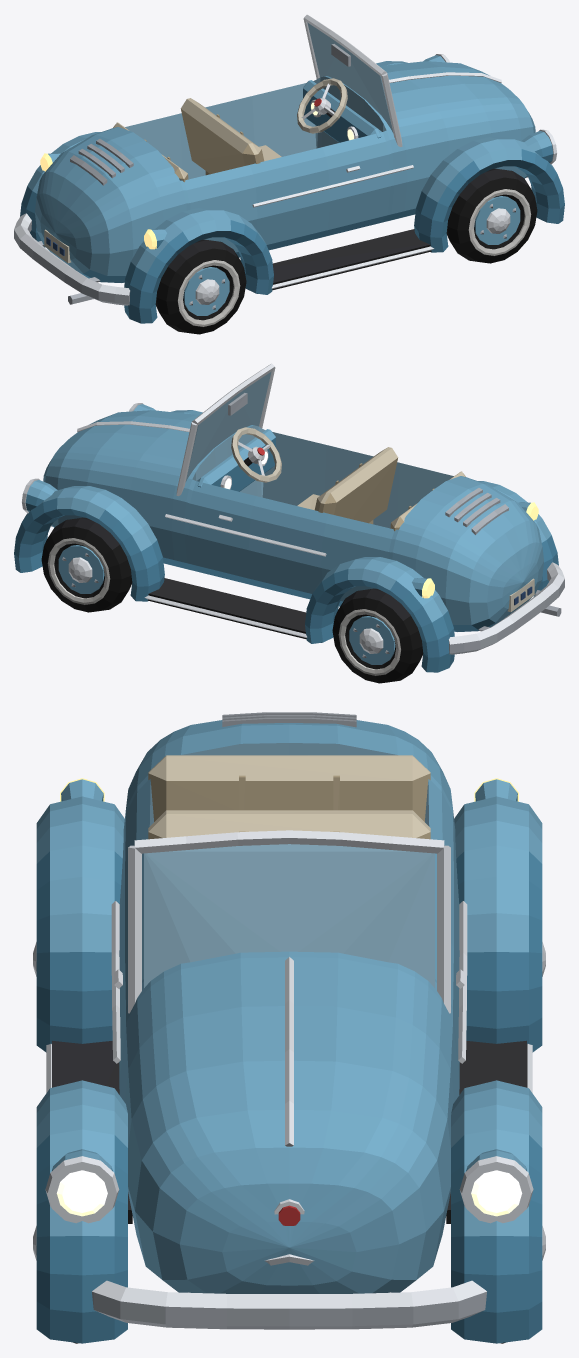
File: mt_car_sky.glb
3 views of the same model, one above another, from view 1: azimuth 30°, elevation 25°; view 2: azimuth 150°, elevation 25°; view 3: azimuth 270°, elevation 25° (orthographic). The views are drawn at different scales.
Visible parts, largest first — view 1: base, wheel1_m, wheel3_m, steer_m; view 2: base, wheel0_m, wheel2_m, steer_m; view 3: base.
Boxes of the visible parts, x1,y1,x2,y2 form: base: (14,14,564,323); wheel1_m: (446,168,537,263); wheel3_m: (155,239,246,334); steer_m: (297,78,347,133); base: (14,363,564,672); wheel0_m: (41,517,132,612); wheel2_m: (332,588,423,683); steer_m: (231,427,281,482); base: (36,712,542,1343).
Bounding box in the file's own units: 0.9881 × 0.4052 × 0.458.
